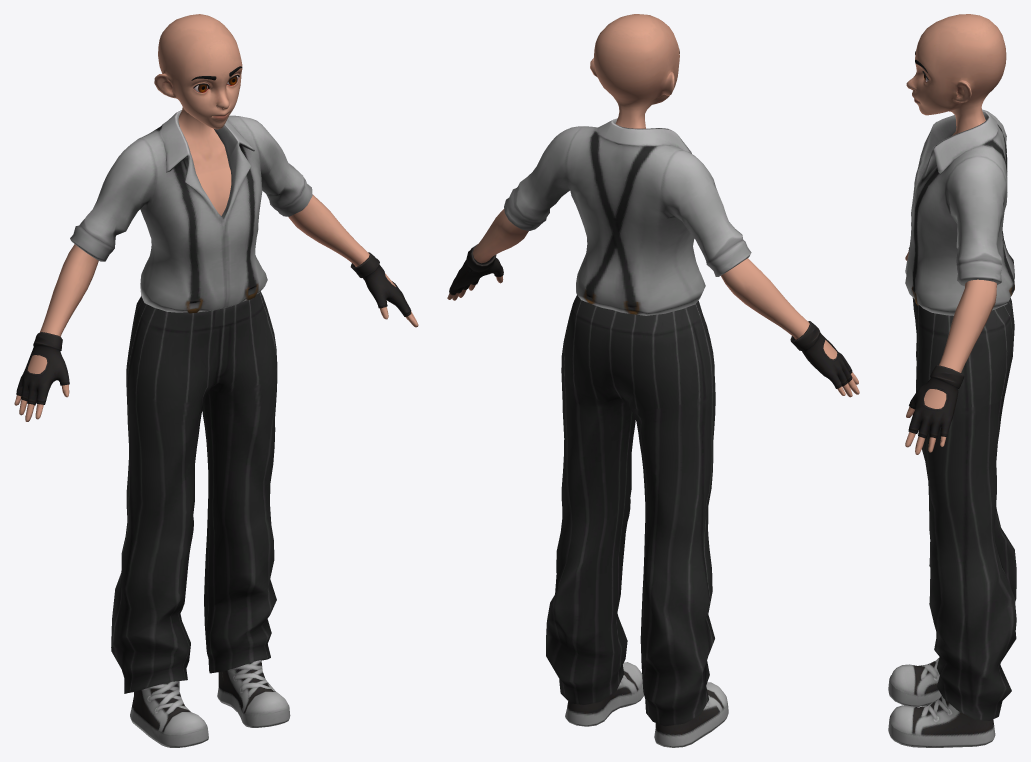
Rendered from StaffRedman_Mesh.obj.
3 views of the same model, side by side, from view 1: azimuth 30°, elevation 25°; view 2: azimuth 150°, elevation 25°; view 3: azimuth 270°, elevation 25° (orthographic). The views are drawn at different scales.
Parts seen in each view (by area): view 1: StaffRedman_Mesh_0; view 2: StaffRedman_Mesh_0; view 3: StaffRedman_Mesh_0.
Part boxes in pixels (bbox=[...]): StaffRedman_Mesh_0: bbox=[14, 14, 418, 747]; StaffRedman_Mesh_0: bbox=[447, 14, 859, 747]; StaffRedman_Mesh_0: bbox=[888, 14, 1016, 747].
Size of the model in its own units: 1.06 by 1.79 by 0.2966.
Materials: 1 (1 with a texture image).
